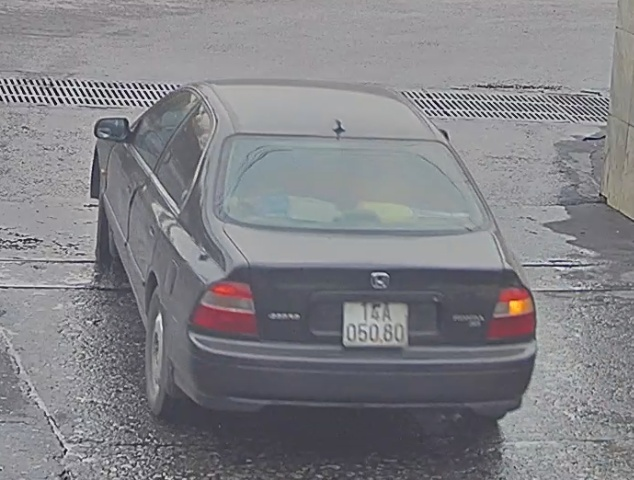vehicle plate: (339, 293, 410, 350)
